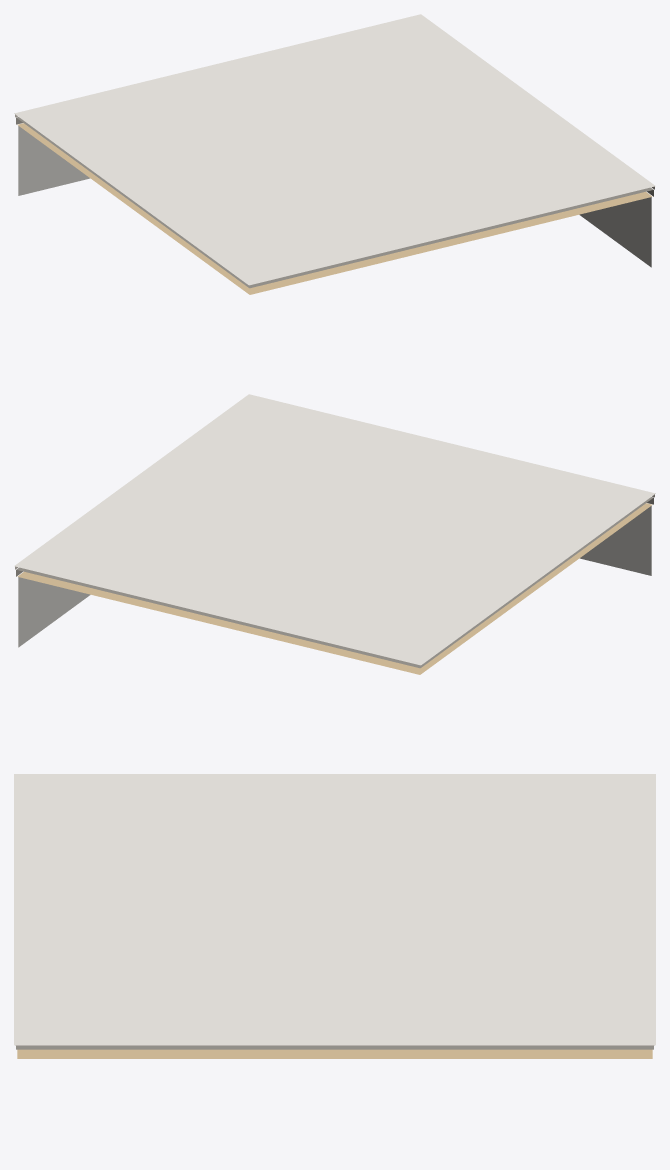
File: comfortfloor.glb
The picture shows the model from 3 angles, top to bottom: view 1: azimuth 30°, elevation 25°; view 2: azimuth 150°, elevation 25°; view 3: azimuth 270°, elevation 25°; orthographic projection. The views are drawn at different scales.
Visible parts, largest first — view 1: topcoat, substrate, primer, membrane; view 2: topcoat, substrate, primer, membrane; view 3: topcoat, primer, membrane, body.
Part boxes in pixels (<box>): topcoat: <box>14,14,655,285</box>; substrate: <box>18,126,651,267</box>; primer: <box>17,123,652,294</box>; membrane: <box>16,117,653,288</box>; topcoat: <box>14,394,655,665</box>; substrate: <box>18,506,651,647</box>; primer: <box>17,503,652,674</box>; membrane: <box>16,497,653,668</box>; topcoat: <box>14,774,655,1045</box>; primer: <box>17,1049,652,1058</box>; membrane: <box>16,1045,653,1049</box>; body: <box>15,1045,654,1045</box>.
Size of the model in its own units: 0.3 by 0.0578 by 0.3.
